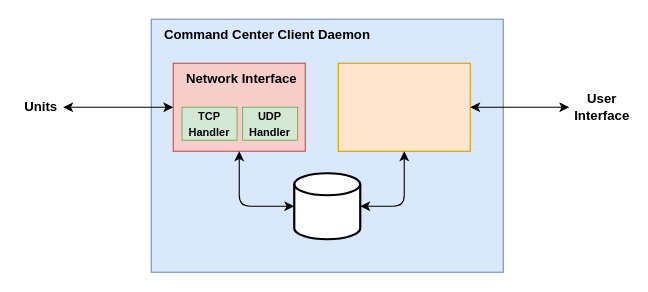
Some shapes in this 648 by 292 pixel diagram are drawn without their labels. Each missing label, with the box of its shape:
Database: (293, 172, 361, 240)
REST API Server: (337, 62, 470, 151)
